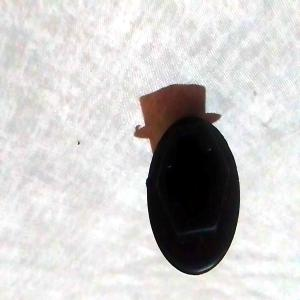parafuso: (145, 115, 240, 277)
